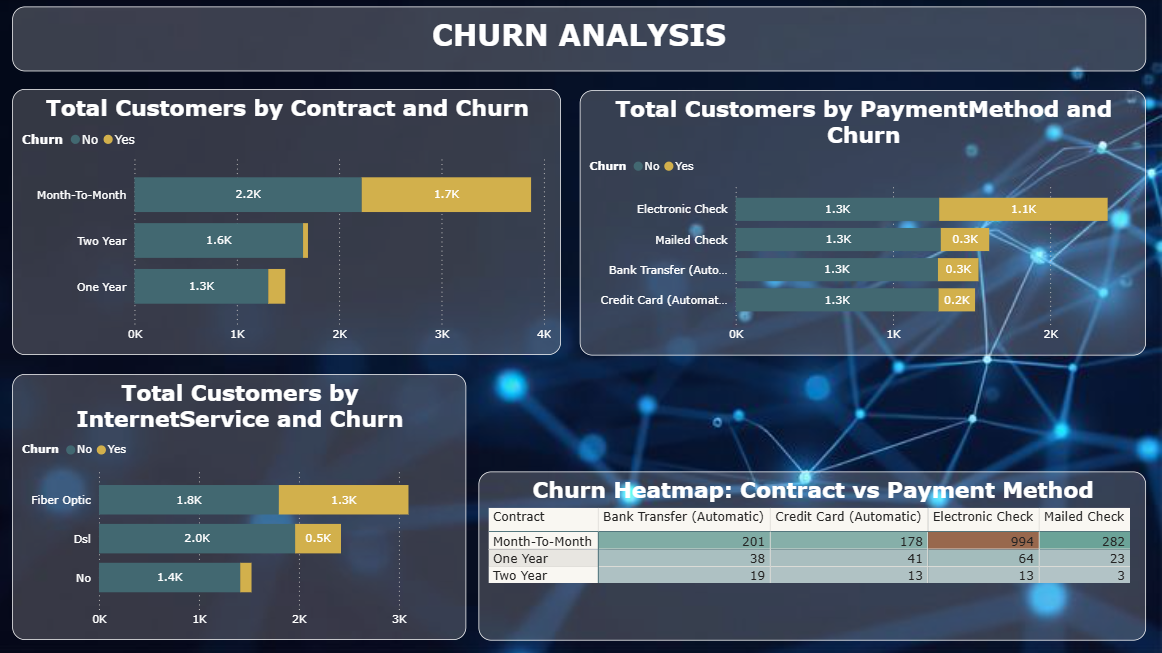

The dashboard page shown, as its layout file describes it:
{"tool":"powerbi","page":{"name":"Page 4","canvas":[1280,720],"ordinal":3},"visuals":[{"type":"barChart","fields":{"Category":["Telco_Customer_Churn_Dataset  (2).Contract"],"Series":["Telco_Customer_Churn_Dataset  (2).Churn"],"Y":["Calculated Measure.Total Customers"]},"box":[17.8,98.8,602.4,292.3],"z":0},{"type":"barChart","fields":{"Category":["Telco_Customer_Churn_Dataset  (2).PaymentMethod"],"Y":["Calculated Measure.Total Customers"],"Series":["Telco_Customer_Churn_Dataset  (2).Churn"]},"box":[640.8,100.2,621.6,290.9],"z":1},{"type":"barChart","fields":{"Category":["Telco_Customer_Churn_Dataset  (2).InternetService"],"Y":["Calculated Measure.Total Customers"],"Series":["Telco_Customer_Churn_Dataset  (2).Churn"]},"box":[17.8,411.7,498.1,292.3],"z":2},{"type":"pivotTable","title":"Churn Heatmap: Contract vs Payment Method","fields":{"Rows":["Telco_Customer_Churn_Dataset  (2).Contract"],"Columns":["Telco_Customer_Churn_Dataset  (2).PaymentMethod"],"Values":["Calculated Measure.Churned Customers"]},"box":[529.7,518.7,732.8,185.2],"z":3},{"type":"textbox","box":[17.8,8.2,1244.6,71.4],"z":4}]}

Visuals, with their boxes in screenshot pixels (x1, y1, x2, y2), scaled from the page's 1280x720 canvas onto the 1162x653 screenshot:
barChart - Telco_Customer_Churn_Dataset  (2).Contract x Telco_Customer_Churn_Dataset  (2).Churn: crop(16, 90, 563, 355)
barChart - Telco_Customer_Churn_Dataset  (2).PaymentMethod x Calculated Measure.Total Customers: crop(582, 91, 1146, 355)
barChart - Telco_Customer_Churn_Dataset  (2).InternetService x Calculated Measure.Total Customers: crop(16, 373, 468, 638)
"Churn Heatmap: Contract vs Payment Method" pivotTable: crop(481, 470, 1146, 638)
textbox: crop(16, 7, 1146, 72)
